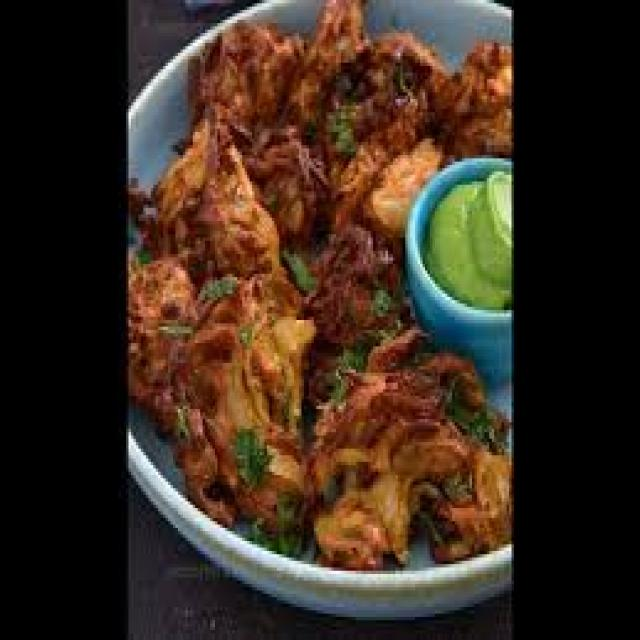BAJI: (121, 0, 525, 575)
